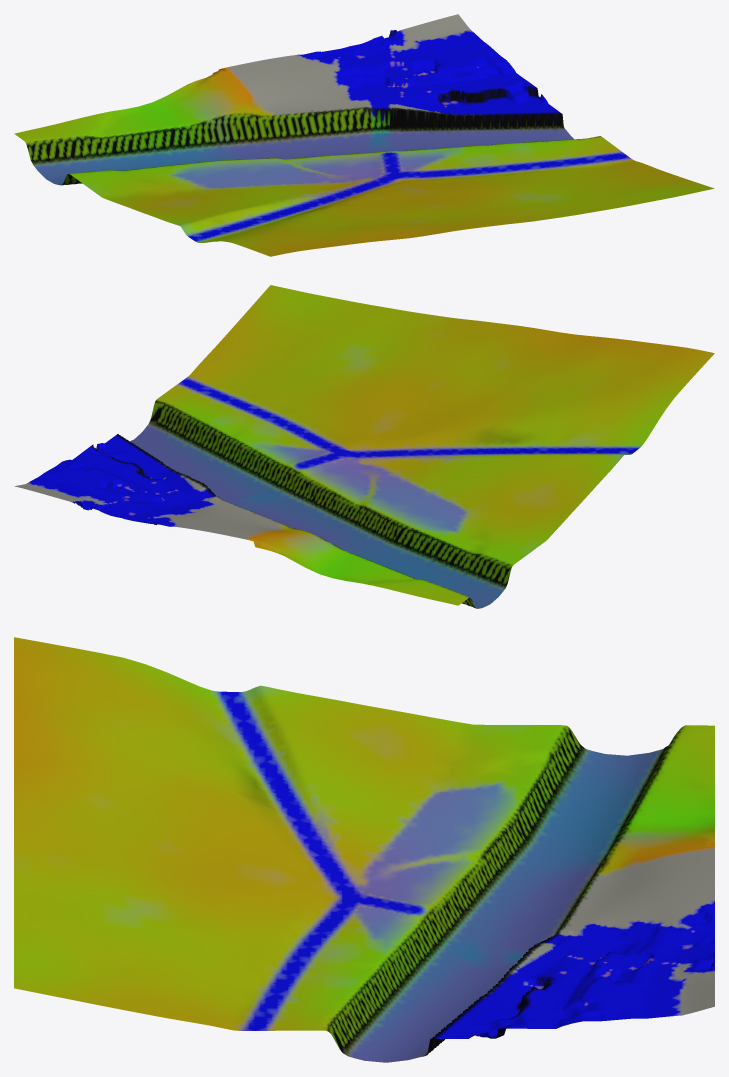
File: SM_BM_BT_Terrain_3_1.glb
The picture shows the model from 3 angles, top to bottom: view 1: azimuth 30°, elevation 25°; view 2: azimuth 150°, elevation 25°; view 3: azimuth 270°, elevation 25°; orthographic projection. The views are drawn at different scales.
Visible parts, largest first — view 1: SM_BM_BT_Terrain_3_1; view 2: SM_BM_BT_Terrain_3_1; view 3: SM_BM_BT_Terrain_3_1.
Boxes of the visible parts, box(x1,y1,x2,y2) form: SM_BM_BT_Terrain_3_1: box(14, 14, 714, 256); SM_BM_BT_Terrain_3_1: box(14, 285, 714, 608); SM_BM_BT_Terrain_3_1: box(14, 637, 714, 1062).
Size of the model in its own units: 256 by 52.14 by 256.
